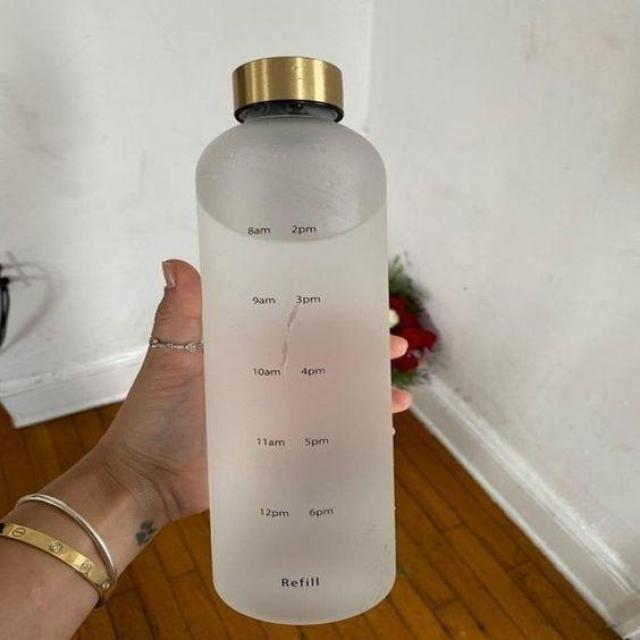gym bottle: (194, 52, 399, 628)
